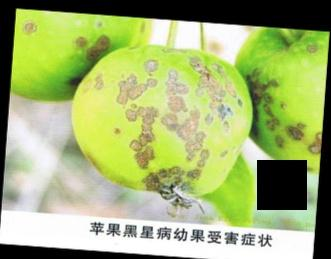rotten apple: (68, 47, 253, 198), (229, 28, 324, 172), (12, 13, 148, 104)
